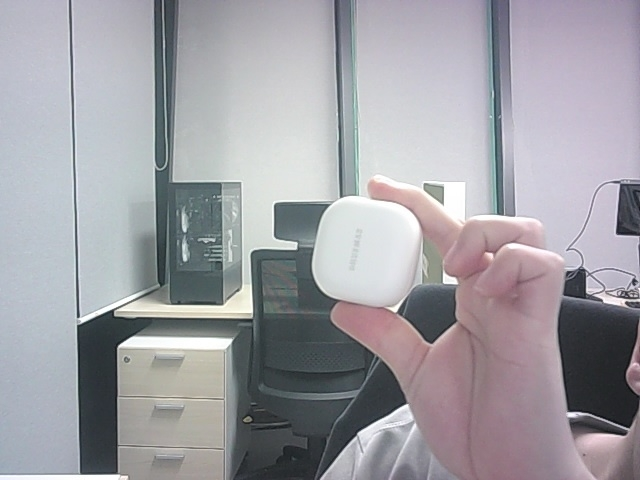case: (312, 196, 422, 307)
